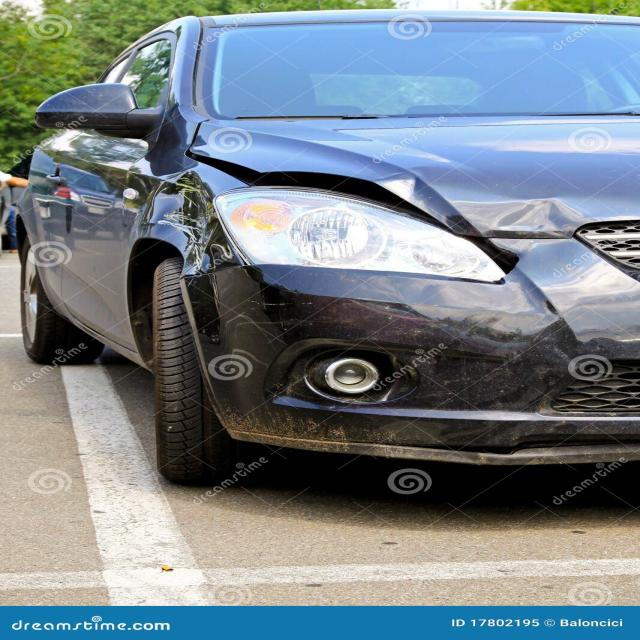dent: (125, 167, 245, 276)
misalignment: (185, 150, 448, 227)
scratch: (372, 163, 595, 240), (247, 300, 313, 305)
